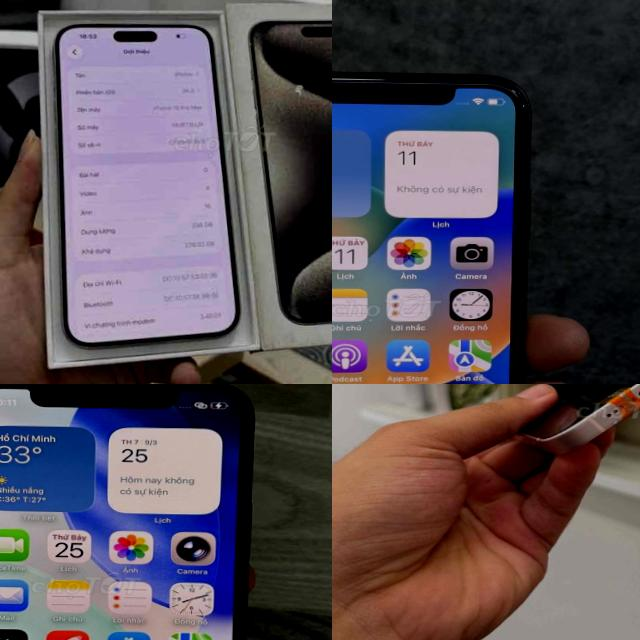gen_12_13: (0, 384, 265, 640), (502, 384, 640, 483)
gen_15: (44, 2, 250, 360)
gen_x_xs: (332, 59, 533, 384)
